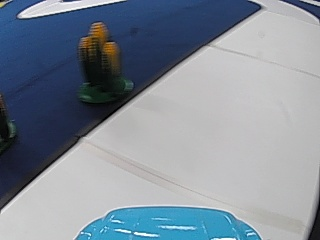tractor: (76, 19, 130, 105)
